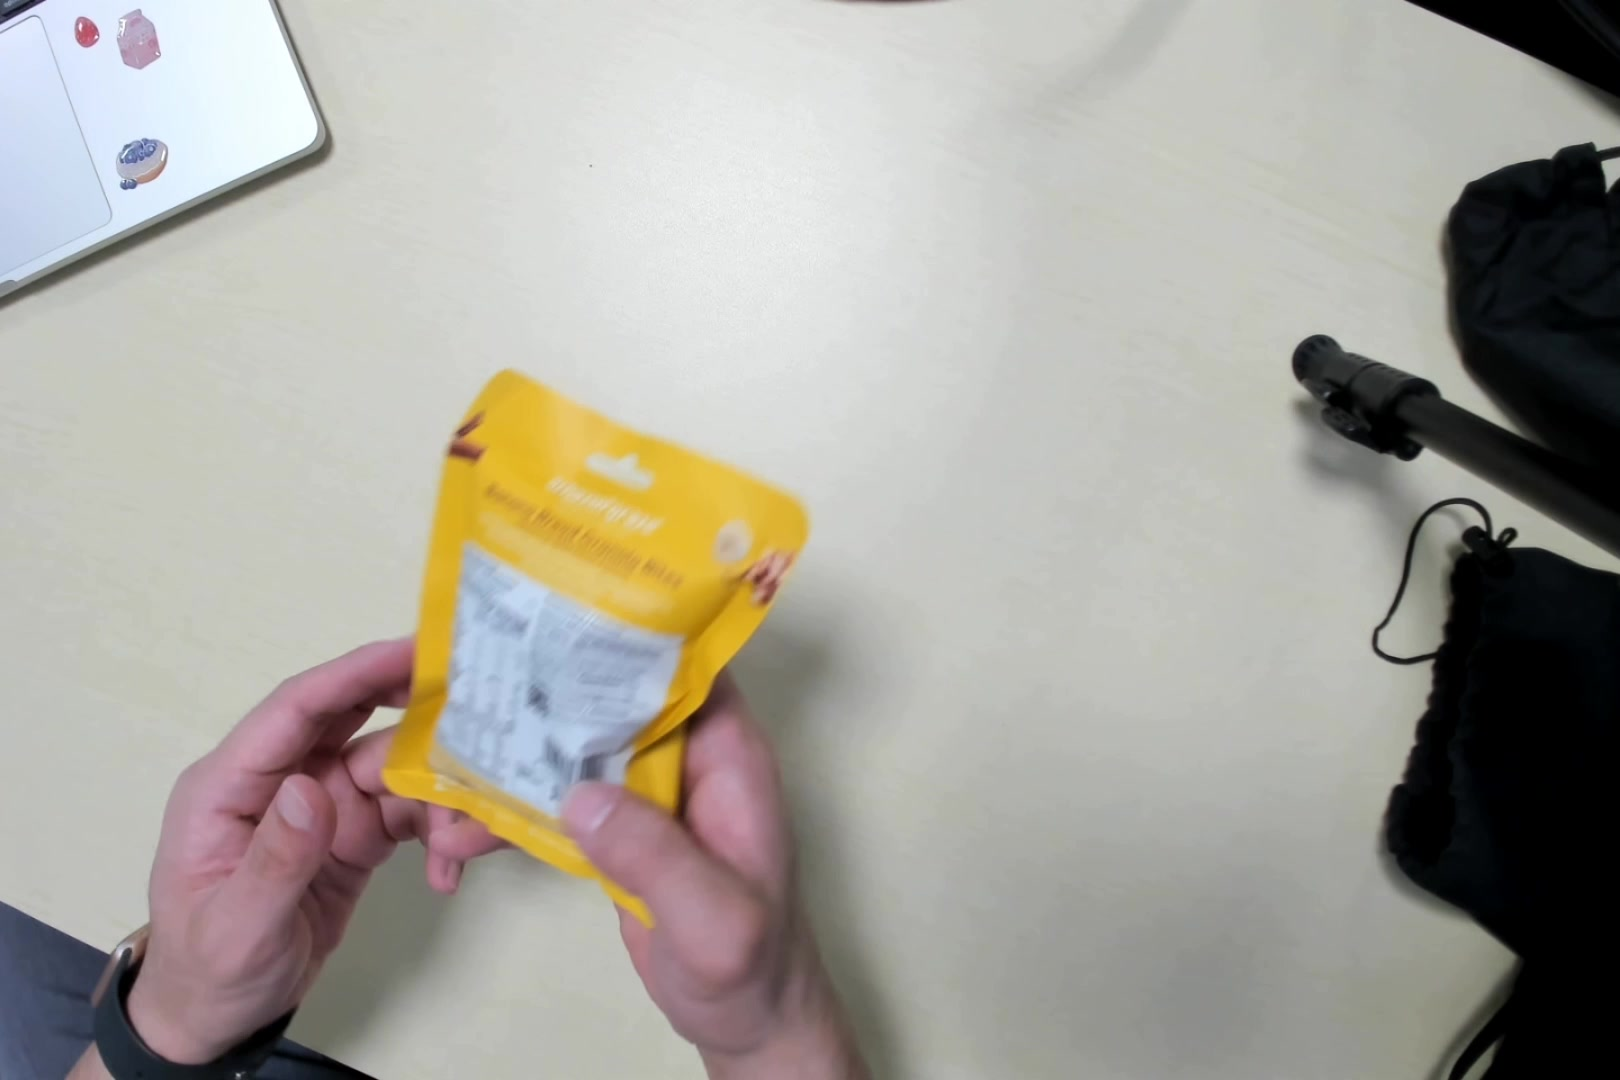BreakfastCereals_0-99g_NonHalal_NonHealthy: (401, 395, 745, 867)
